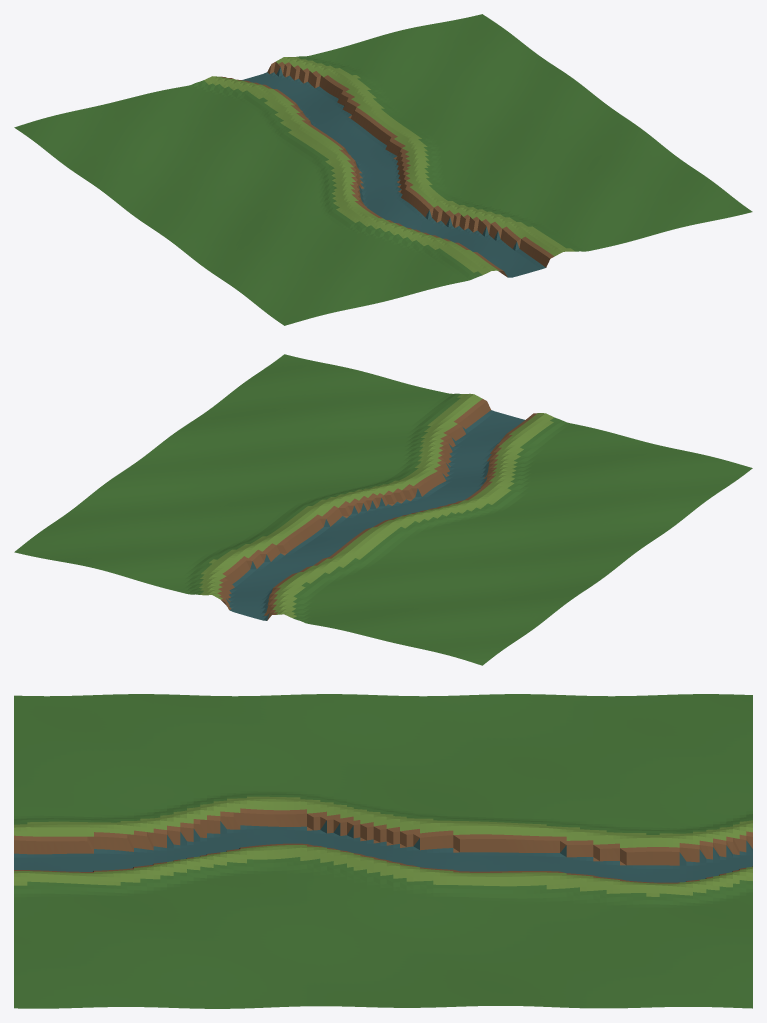
Rendered from urban_canal_greenway_112.obj.
The picture shows the model from 3 angles, top to bottom: view 1: azimuth 30°, elevation 25°; view 2: azimuth 150°, elevation 25°; view 3: azimuth 270°, elevation 25°; orthographic projection. The views are drawn at different scales.
Size of the model in its own units: 222 by 7.49 by 222.
